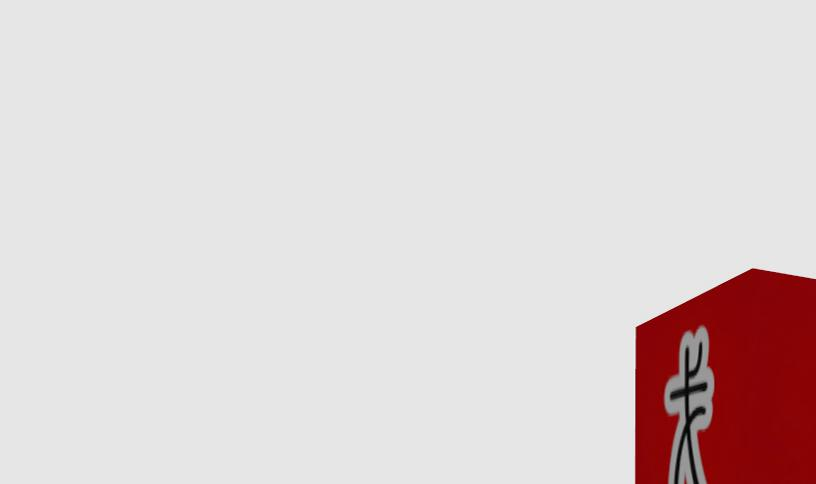KFS_FAKE: (633, 269, 816, 484), (664, 329, 714, 484)
